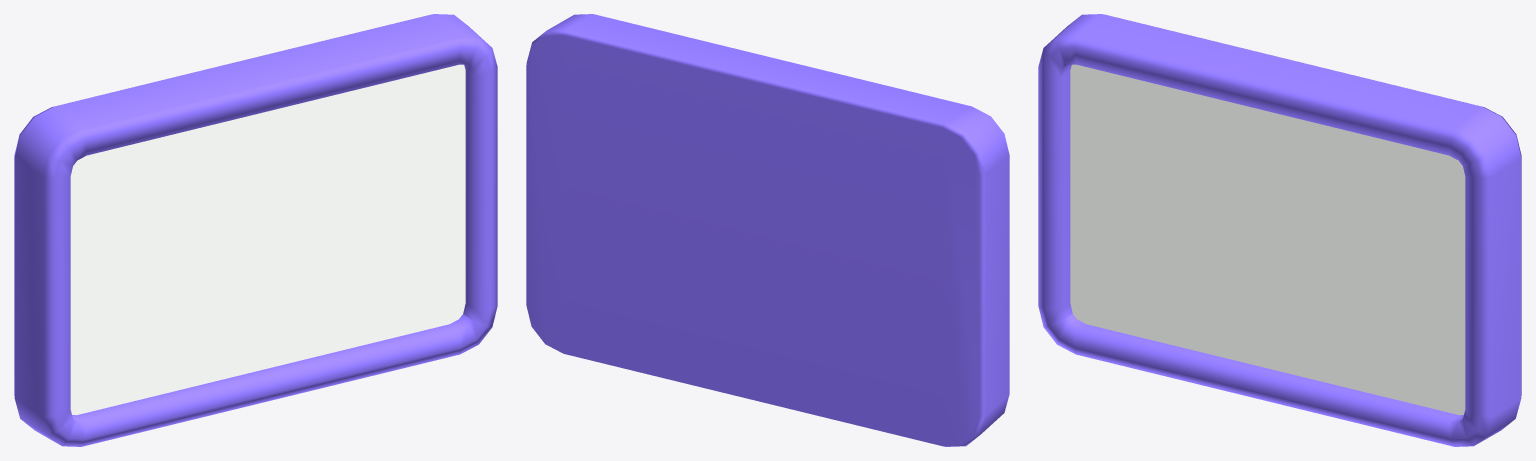
The model's file is workstation_display.glb.
3 renders of one model, left to right at view 1: azimuth 30°, elevation 25°; view 2: azimuth 150°, elevation 25°; view 3: azimuth 330°, elevation 25°, orthographic.
Visible parts, largest first — view 1: SquareFrame.004; view 2: SquareFrame.004; view 3: SquareFrame.004.
Part boxes in pixels (x1,y1,x2,y2): SquareFrame.004: [14, 14, 497, 446]; SquareFrame.004: [526, 14, 1009, 446]; SquareFrame.004: [1038, 14, 1521, 446].
Size of what is drawn, in the model's own units: 0.9334 by 0.6305 by 0.1131.
1 material, 1 textured.
